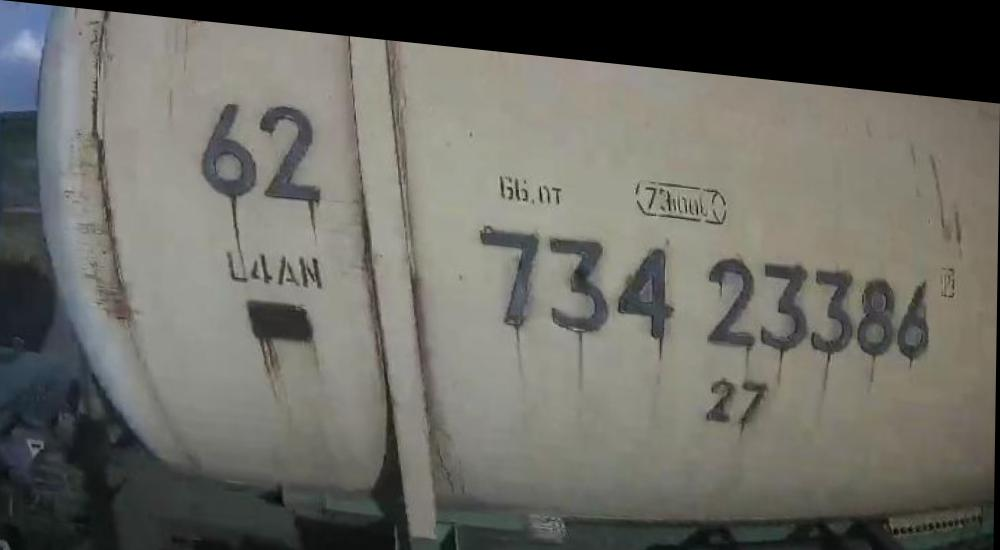Wagon-number: (477, 210, 938, 355)
